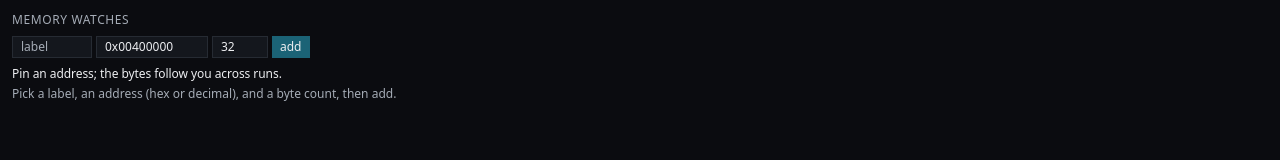
Scenario: MemoryWatches › defaults the label to the parsed address when left blank
In the field named "watch address": (152, 47) [96, 36, 208, 58], type "0x00600000"
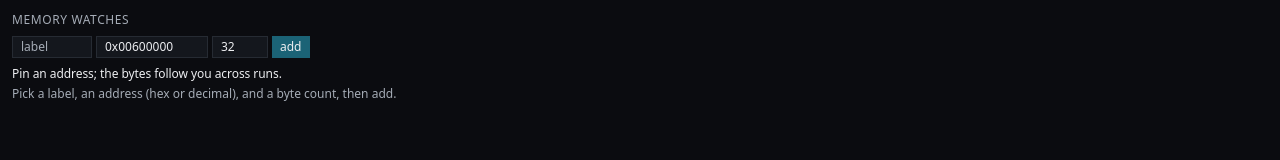
Replace the text in the number field named "watch byte length" with "4": (240, 47) [212, 36, 268, 58]
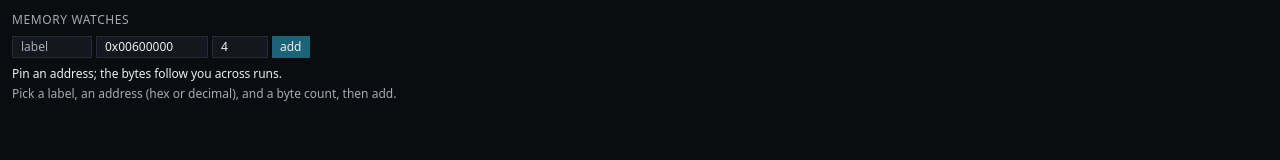
Click the button "add": (291, 47) [272, 36, 310, 58]
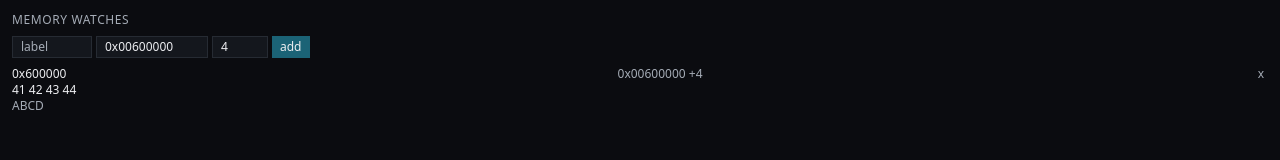
Now the text "0x600000" is shown, box [12, 66, 66, 82]
